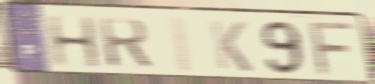9: (260, 19, 306, 77)
F: (309, 21, 359, 78)
H: (45, 14, 103, 70)
I: (168, 15, 195, 75)
K: (208, 18, 255, 74)
R: (96, 16, 155, 71)
